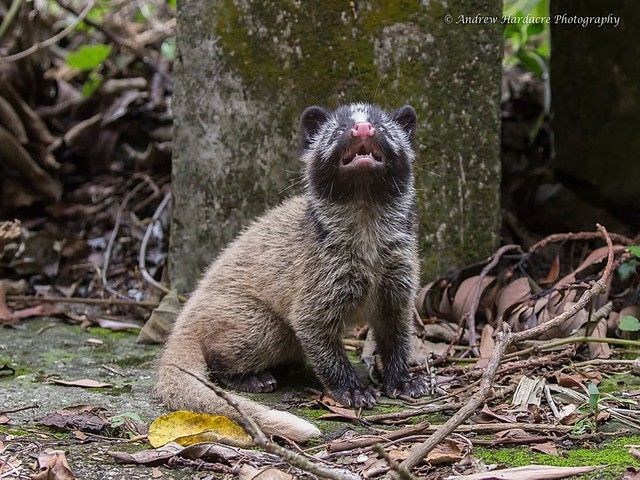civet: (156, 99, 453, 442)
